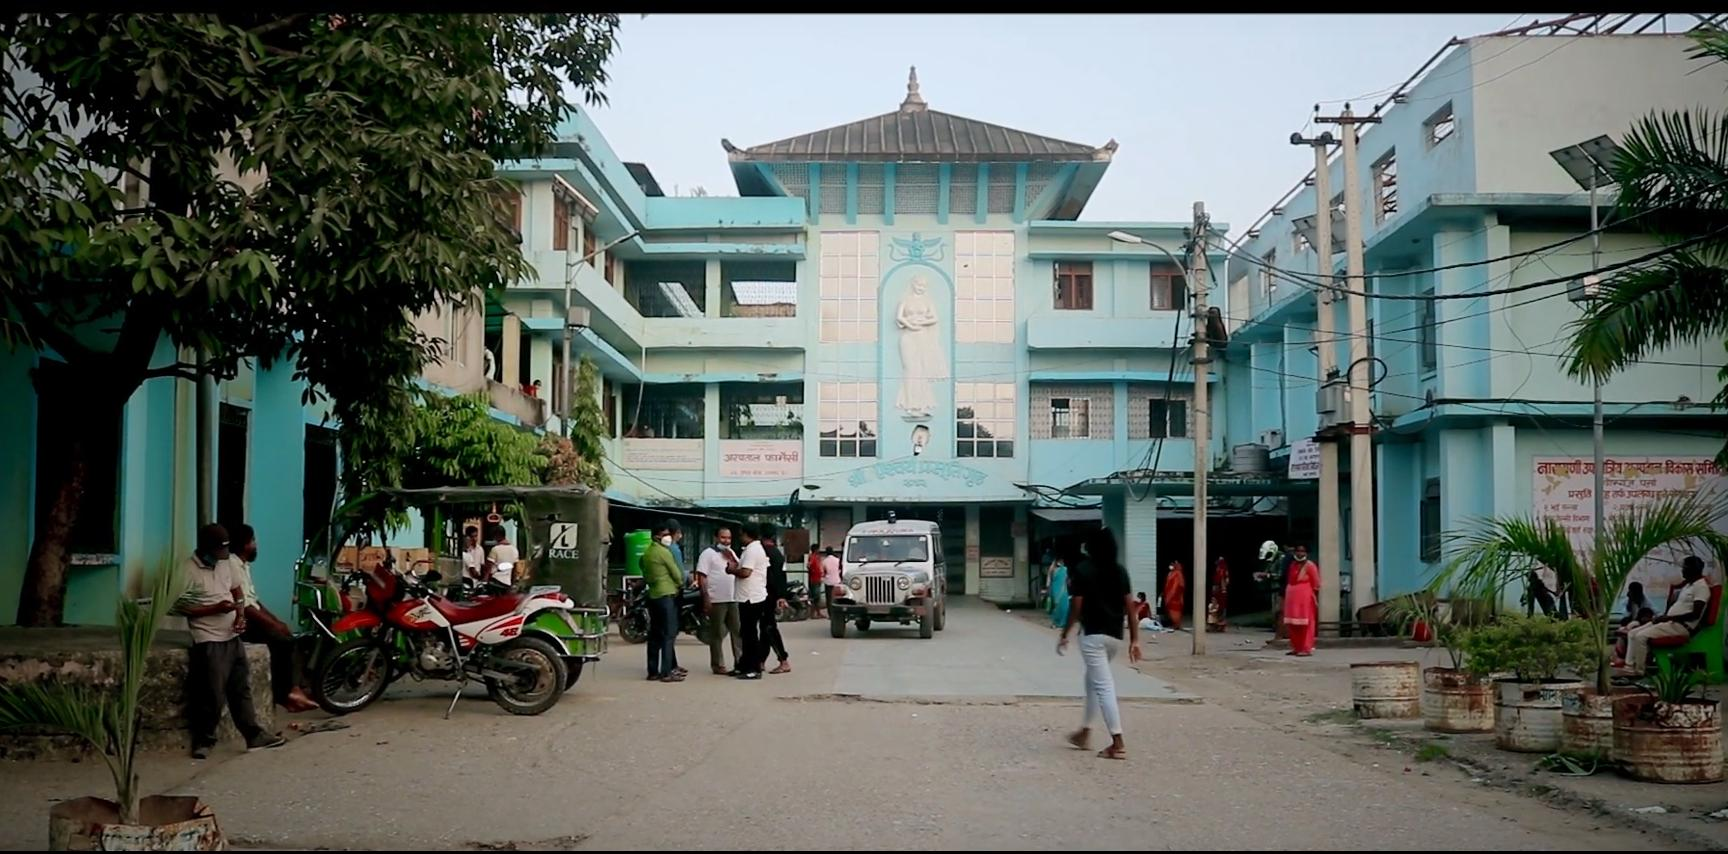ambulance: (834, 506, 960, 655)
bike: (318, 565, 573, 718)
